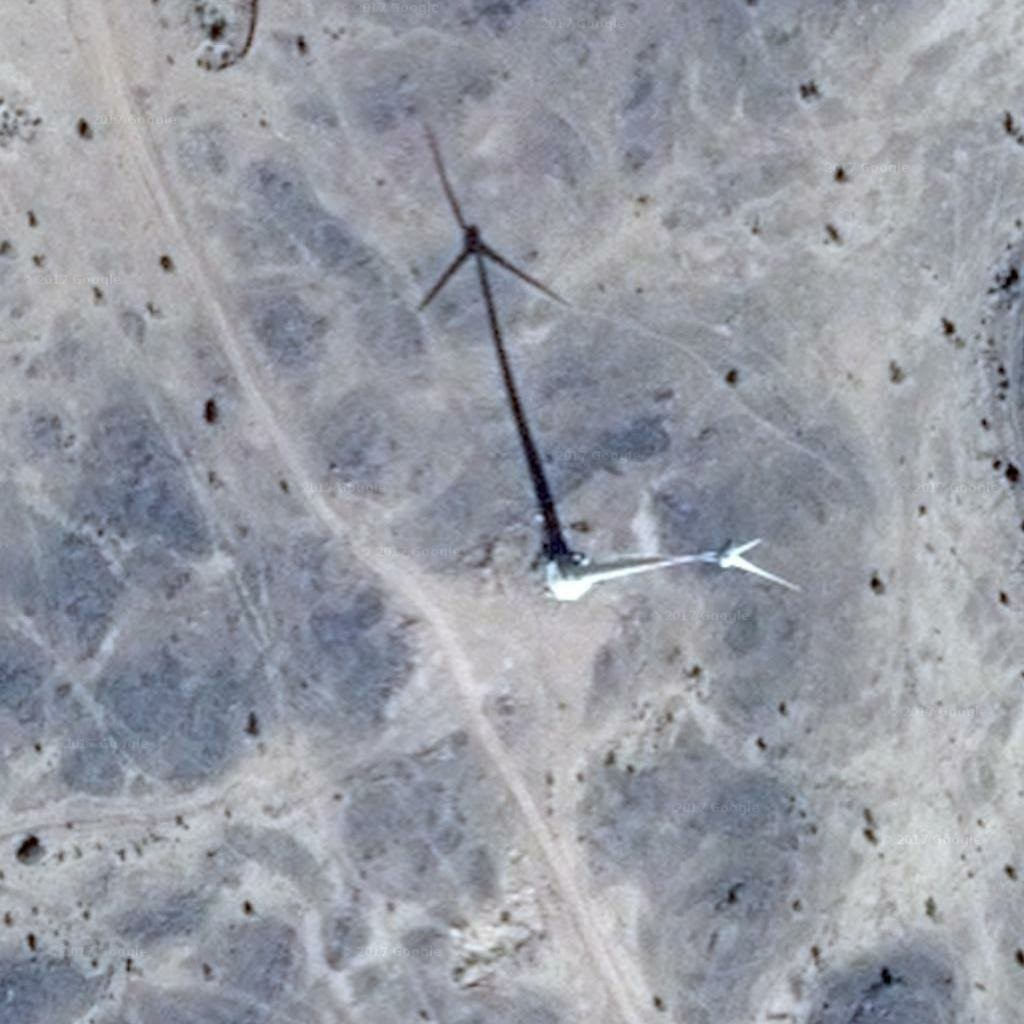Windmill: (402, 121, 592, 557)
